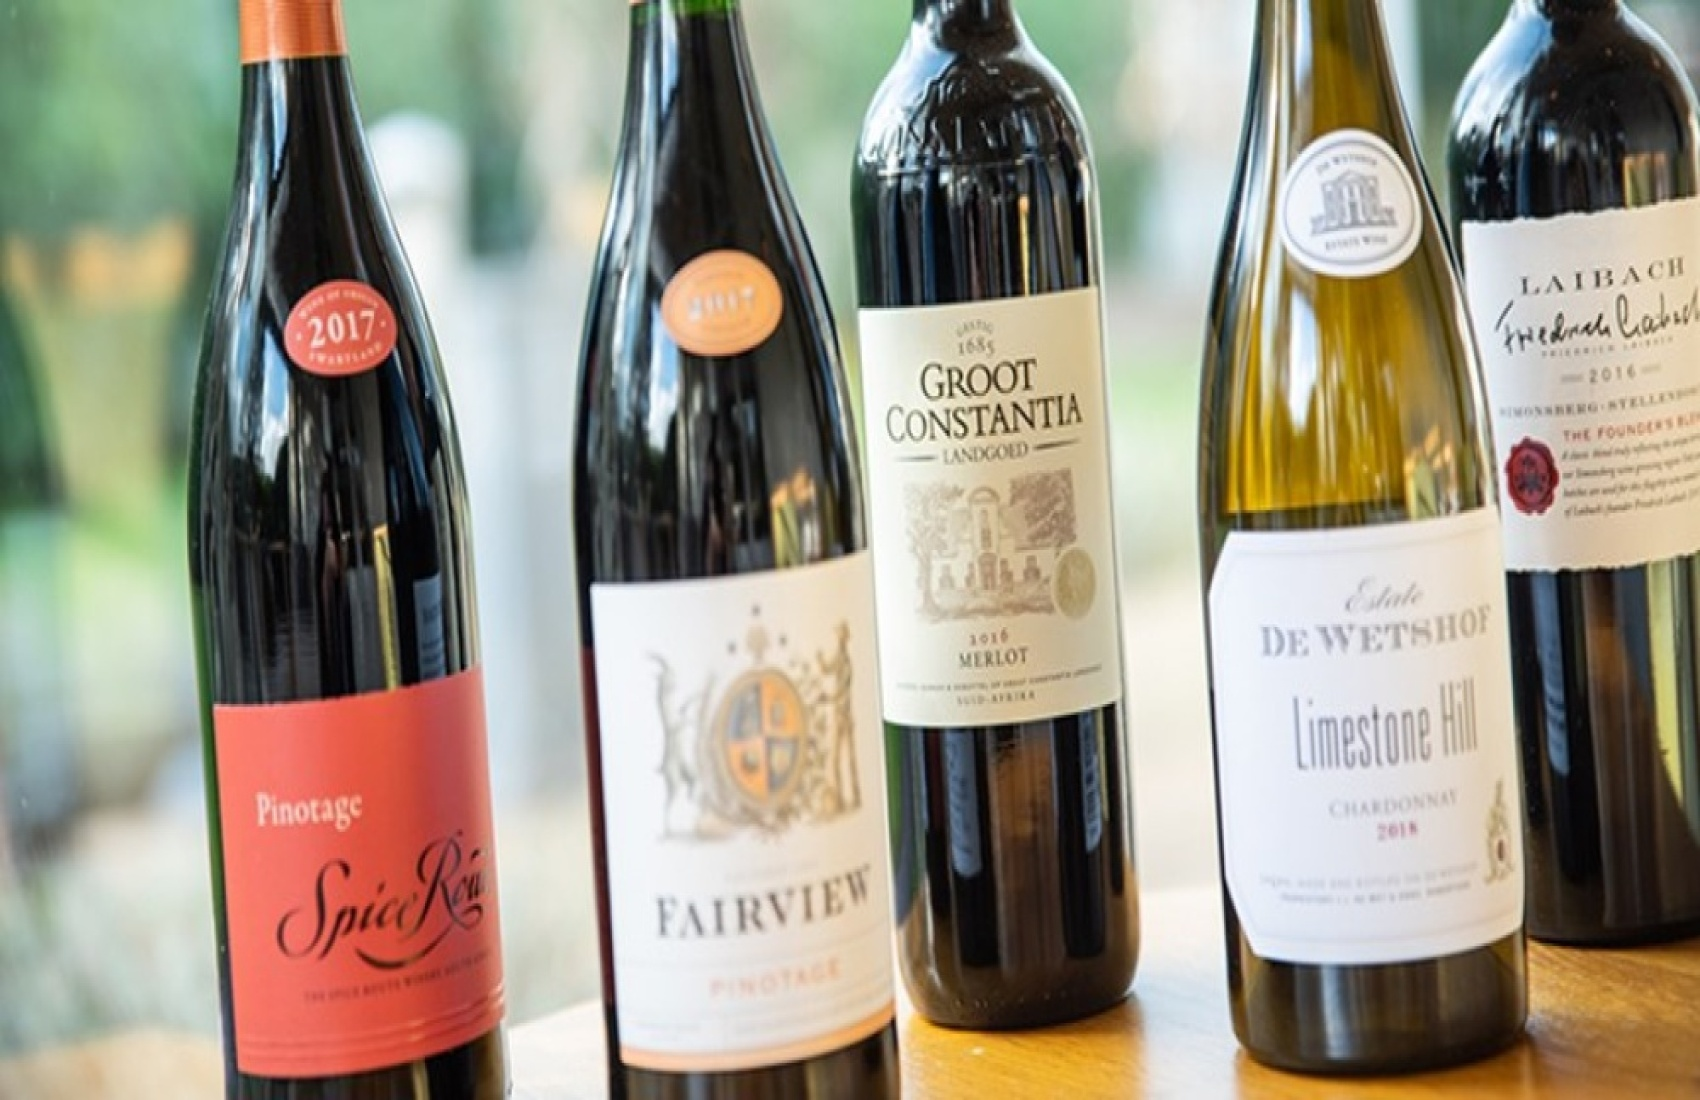wine: (567, 1, 892, 1078), (1181, 1, 1505, 1078), (183, 16, 507, 1094)
